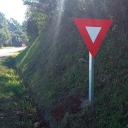preferencia: (72, 15, 114, 59)
